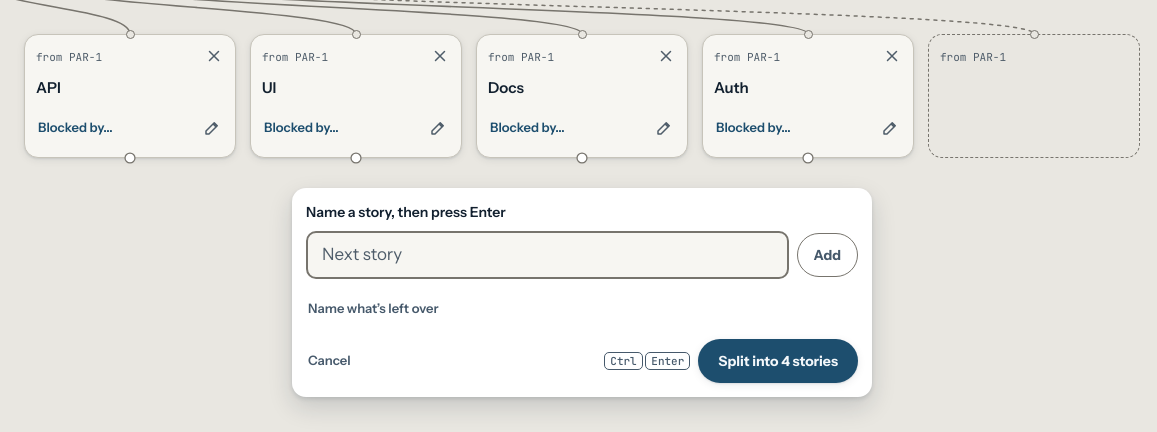
Test case: closes when something outside the card is pressed
The image size is (1157, 432).
Click the button with aria-label "Set what Docs is blocked by": {"x": 527, "y": 128} top-left (488, 106), bottom-right (567, 150)
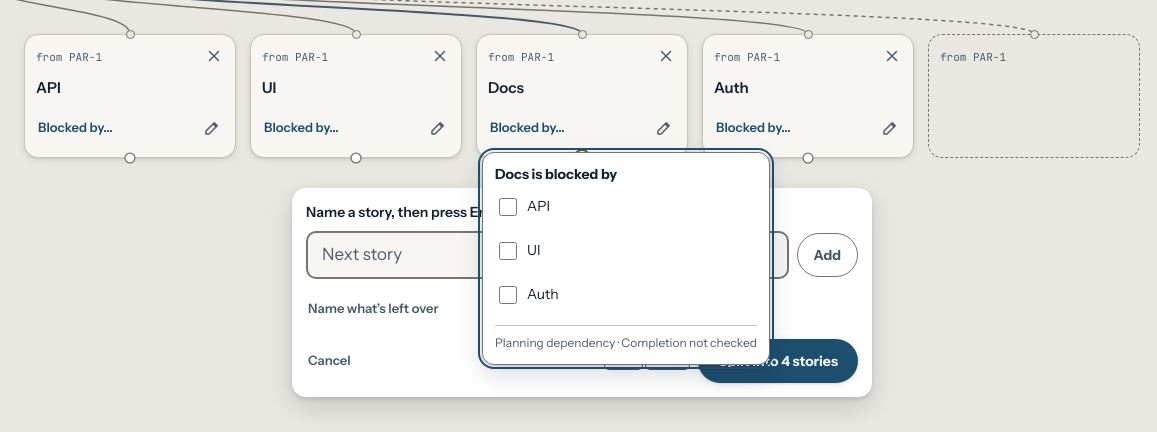
Press the mouse on the list item "from PAR-1 API Blocked by…": {"x": 130, "y": 96} top-left (24, 34), bottom-right (236, 158)
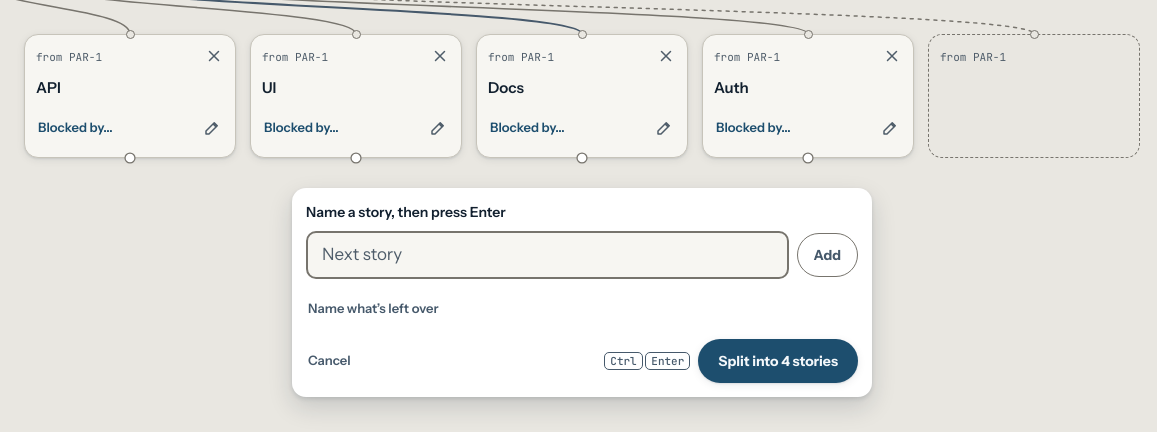
Result: the text "Docs is blocked by" is gone
